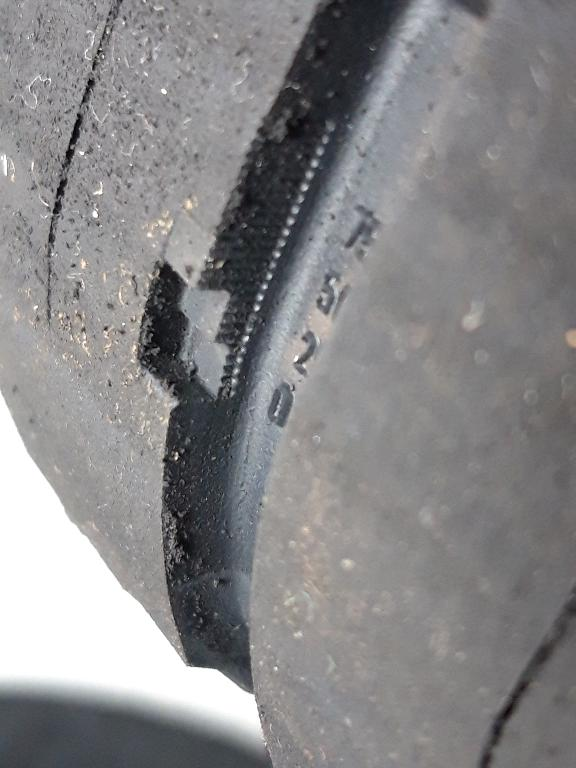temoin:50: (128, 202, 296, 420)
